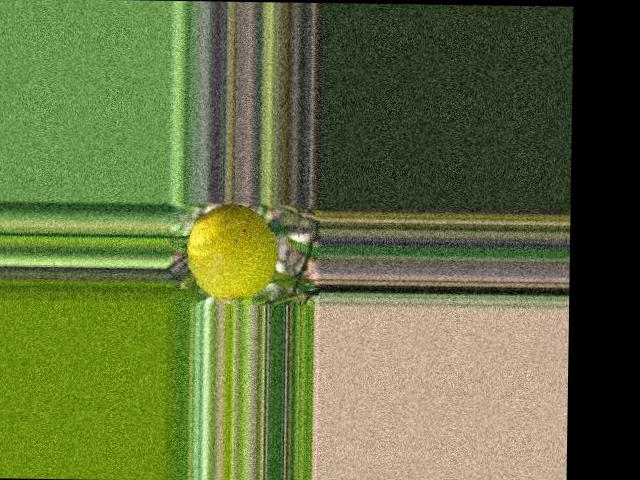lemon: (180, 202, 284, 298)
